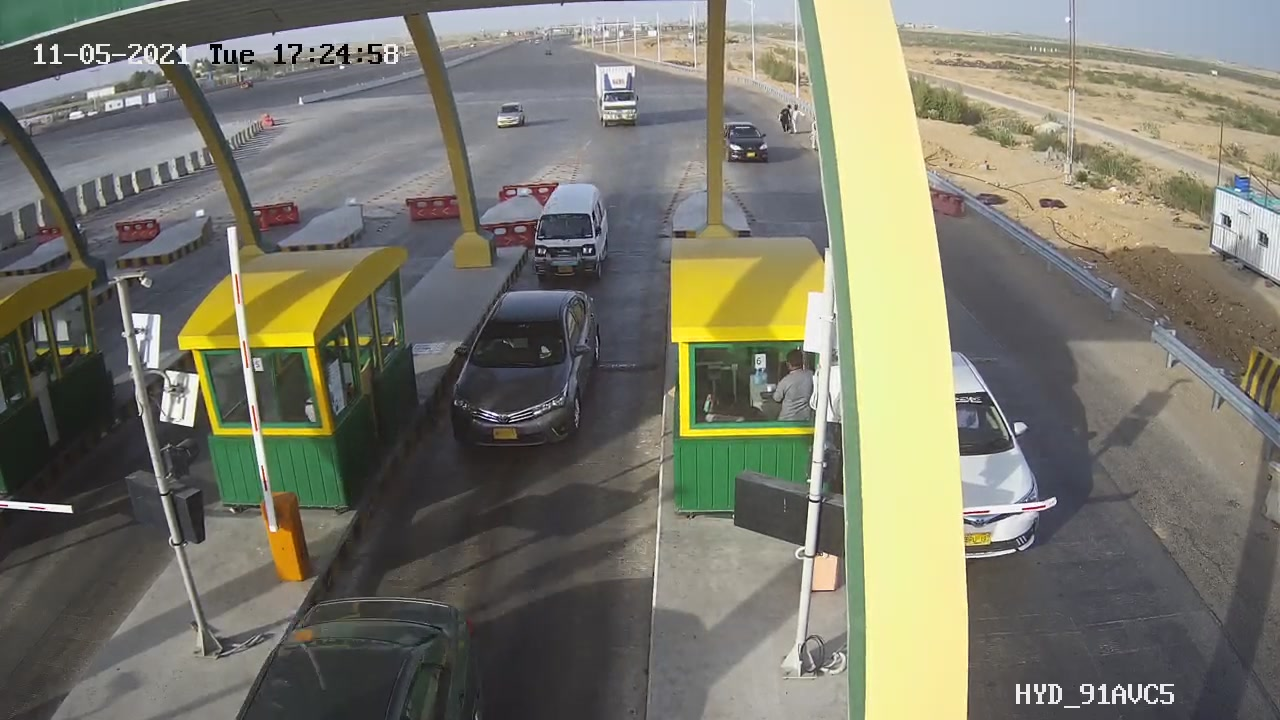F1: (431, 273, 622, 472), (514, 172, 626, 291)
